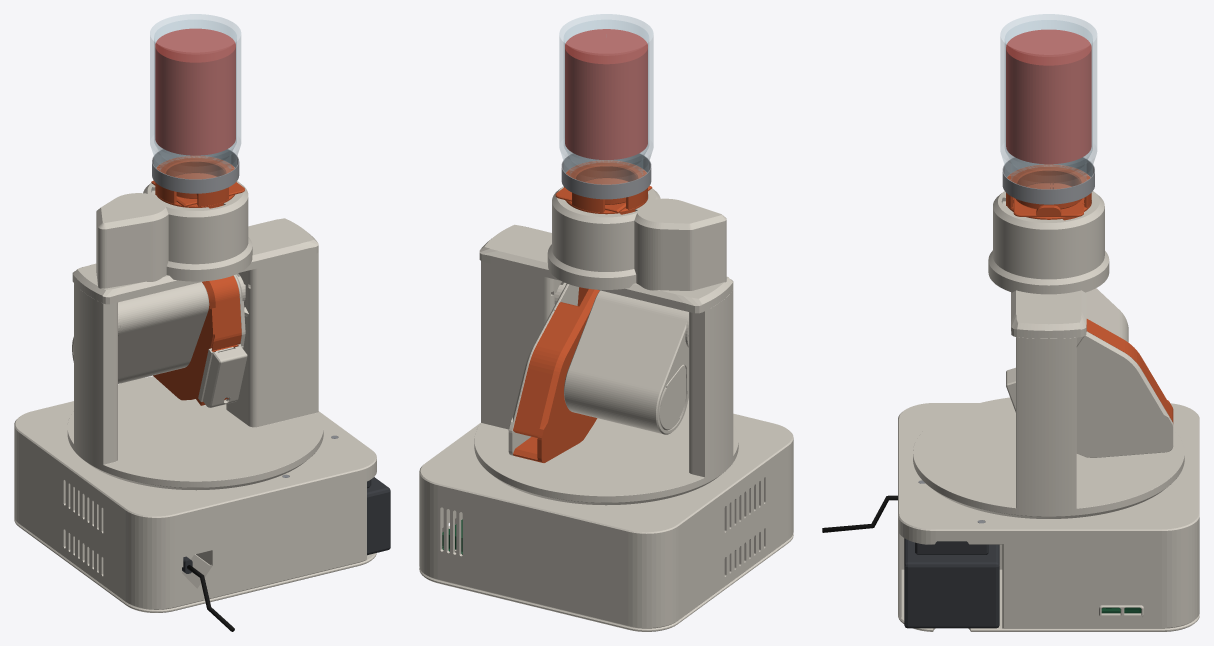
The model's file is assembly.glb.
The picture shows the model from 3 angles, left to right: view 1: azimuth 30°, elevation 25°; view 2: azimuth 150°, elevation 25°; view 3: azimuth 270°, elevation 25°; orthographic projection. The views are drawn at different scales.
Parts seen in each view (by area): view 1: PRT_base_shell, PRT_turntable, BUY_jar, PRT_feeder_crown, BUY_mm_fill, PRT_nacelle, PRT_beam, PRT_launcher_body, PRT_nip_cover, BUY_jar_band, BUY_battery, PRT_base_floor (+3 smaller); view 2: PRT_base_shell, PRT_turntable, BUY_jar, PRT_feeder_crown, PRT_nacelle, BUY_mm_fill, PRT_launcher_body, PRT_beam, BUY_jar_band, PRT_base_floor, PRT_jar_adapter, PRT_encoder_cap (+3 smaller); view 3: PRT_base_shell, PRT_turntable, BUY_jar, BUY_mm_fill, PRT_launcher_cover, PRT_feeder_crown, BUY_battery, PRT_beam, BUY_jar_band, PRT_jar_adapter, PRT_base_floor, PRT_nacelle (+3 smaller).
Boxes of the visible parts, x1,y1,x2,y2 form: PRT_base_shell: (14,401,376,609); PRT_turntable: (67,252,323,490); BUY_jar: (150,14,240,178); PRT_feeder_crown: (96,181,252,288); BUY_mm_fill: (155,28,235,155); PRT_nacelle: (72,282,209,383); PRT_beam: (72,218,318,304); PRT_launcher_body: (153,275,241,405); PRT_nip_cover: (198,344,247,407); BUY_jar_band: (152,149,239,193); BUY_battery: (367,477,390,555); PRT_base_floor: (14,518,376,612); PRT_base_shell: (419,413,793,628); PRT_turntable: (474,261,738,505); BUY_jar: (559,14,653,184); PRT_feeder_crown: (547,186,726,290); PRT_nacelle: (564,290,688,434); BUY_mm_fill: (565,29,647,159); PRT_launcher_body: (513,287,599,462); PRT_beam: (479,224,733,313); BUY_jar_band: (561,153,651,199); PRT_base_floor: (419,534,793,631); PRT_jar_adapter: (566,160,646,204); PRT_encoder_cap: (659,364,686,430); PRT_base_shell: (898,403,1199,628); PRT_turntable: (913,337,1184,518); BUY_jar: (1000,14,1096,188); BUY_mm_fill: (1006,29,1091,164); PRT_launcher_cover: (1076,331,1173,457); PRT_feeder_crown: (988,191,1109,294); BUY_battery: (904,538,999,628); PRT_beam: (988,270,1109,338); BUY_jar_band: (1002,157,1094,204); PRT_jar_adapter: (1007,164,1090,209); PRT_base_floor: (898,569,1199,631); PRT_nacelle: (1086,288,1128,342).
Bounding box in the file's own units: 245 × 469 × 300.
